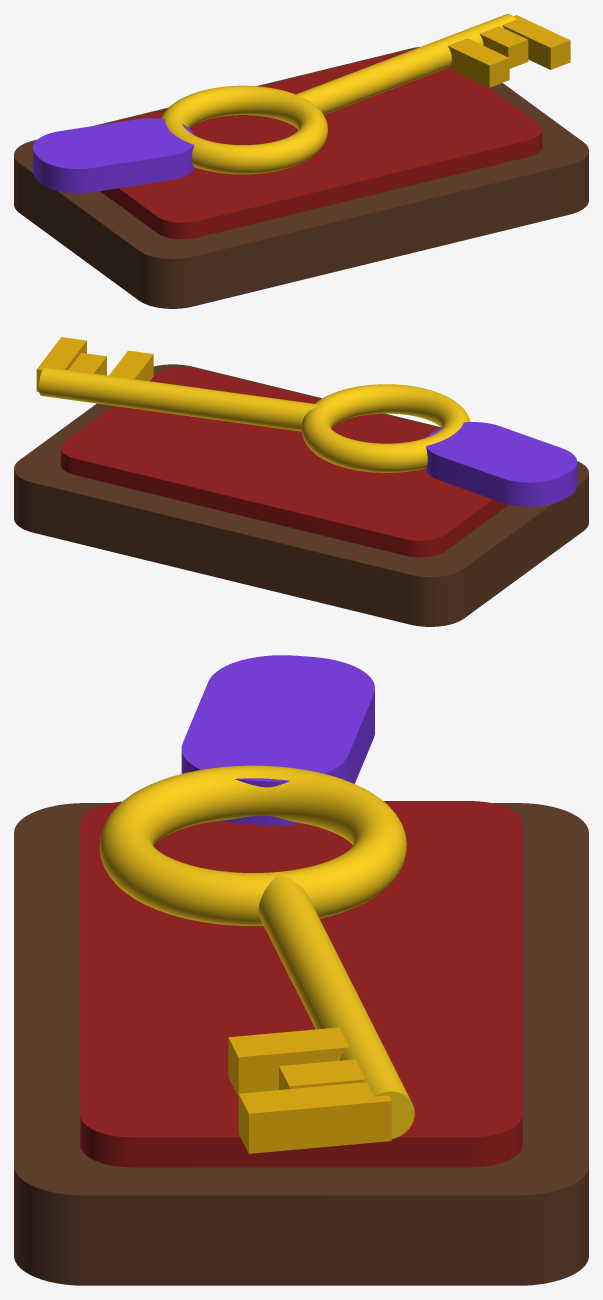
Rendered from room_key.glb.
The picture shows the model from 3 angles, top to bottom: view 1: azimuth 30°, elevation 25°; view 2: azimuth 150°, elevation 25°; view 3: azimuth 270°, elevation 25°; orthographic projection. The views are drawn at different scales.
Visible parts, largest first — view 1: key_tray, key_pad, key_fob, key_bow, key_shaft, tooth_0, tooth_2, tooth_1; view 2: key_tray, key_pad, key_fob, key_bow, key_shaft, tooth_2, tooth_0, tooth_1; view 3: key_tray, key_pad, key_bow, key_fob, key_shaft, tooth_2, tooth_0, tooth_1.
Part boxes in pixels (x1=…): key_tray: x1=14, y1=47, x2=588, y2=308; key_pad: x1=100, y1=49, x2=542, y2=239; key_fob: x1=33, y1=118, x2=195, y2=193; key_bow: x1=161, y1=85, x2=327, y2=174; key_shaft: x1=292, y1=14, x2=516, y2=114; tooth_0: x1=448, y1=38, x2=509, y2=87; tooth_2: x1=502, y1=15, x2=570, y2=69; tooth_1: x1=479, y1=26, x2=528, y2=68; key_tray: x1=14, y1=364, x2=588, y2=626; key_pad: x1=60, y1=367, x2=508, y2=557; key_fob: x1=425, y1=422, x2=577, y2=506; key_bow: x1=301, y1=384, x2=470, y2=472; key_shaft: x1=39, y1=367, x2=322, y2=431; tooth_2: x1=36, y1=337, x2=86, y2=391; tooth_0: x1=109, y1=350, x2=153, y2=381; tooth_1: x1=68, y1=353, x2=106, y2=375; key_tray: x1=14, y1=803, x2=588, y2=1285; key_pad: x1=80, y1=801, x2=522, y2=1167; key_bow: x1=99, y1=765, x2=406, y2=925; key_fob: x1=181, y1=655, x2=374, y2=825; key_shaft: x1=258, y1=872, x2=414, y2=1138; tooth_2: x1=238, y1=1082, x2=391, y2=1153; tooth_0: x1=228, y1=1027, x2=349, y2=1096; tooth_1: x1=279, y1=1059, x2=365, y2=1089.
Bounding box in the file's own units: 0.4907 × 0.102 × 0.26.
